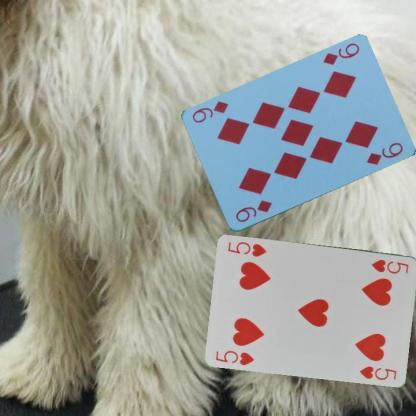5h: (214, 348, 256, 366), (369, 257, 410, 275)
9d: (320, 40, 361, 67), (233, 198, 273, 224)
